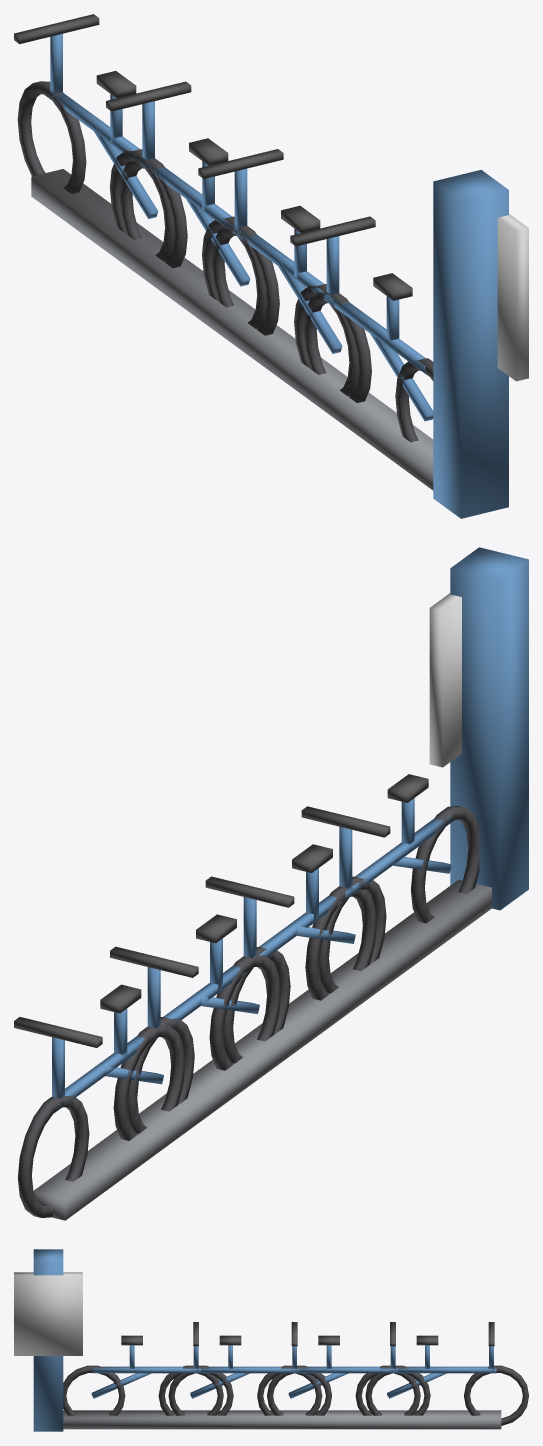
Rendered from bike_dock.glb.
The picture shows the model from 3 angles, top to bottom: view 1: azimuth 30°, elevation 25°; view 2: azimuth 150°, elevation 25°; view 3: azimuth 270°, elevation 25°; orthographic projection. The views are drawn at different scales.
Visible parts, largest first — view 1: bike_dock; view 2: bike_dock; view 3: bike_dock.
Part boxes in pixels (left/top/right/bottom): bike_dock: left=14, top=14, right=528, bottom=518; bike_dock: left=14, top=547, right=528, bottom=1220; bike_dock: left=14, top=1249, right=528, bottom=1431.
Size of the model in its own units: 0.5 by 1.9 by 5.23.
